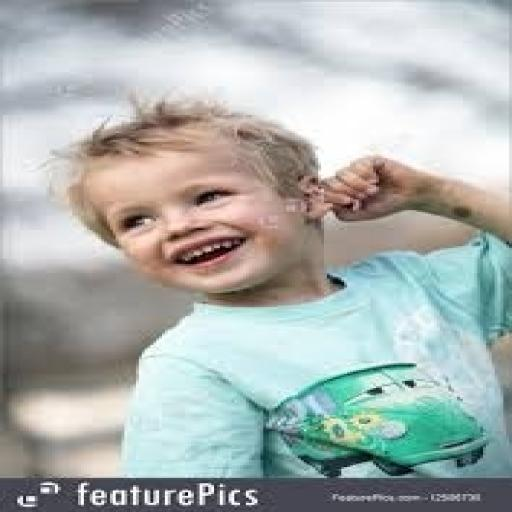laughing: (41, 88, 509, 476)
